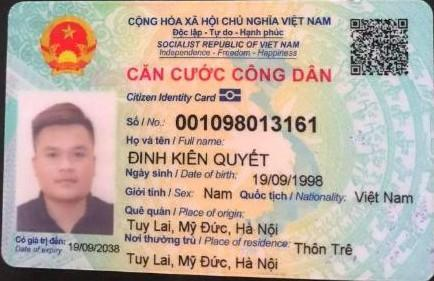ID: (171, 107, 319, 135)
birth: (251, 170, 330, 188)
name: (123, 148, 273, 169)
place: (126, 216, 283, 237)
residence: (123, 248, 285, 277), (294, 238, 365, 260)
